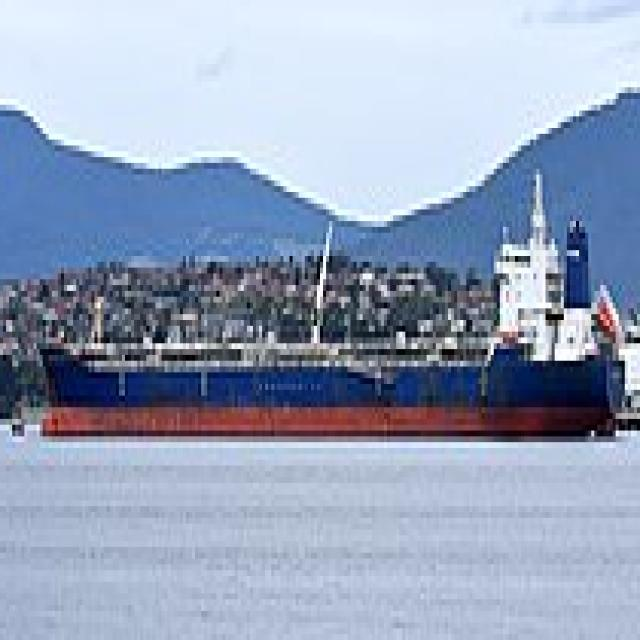Tanker: (39, 227, 630, 436)
